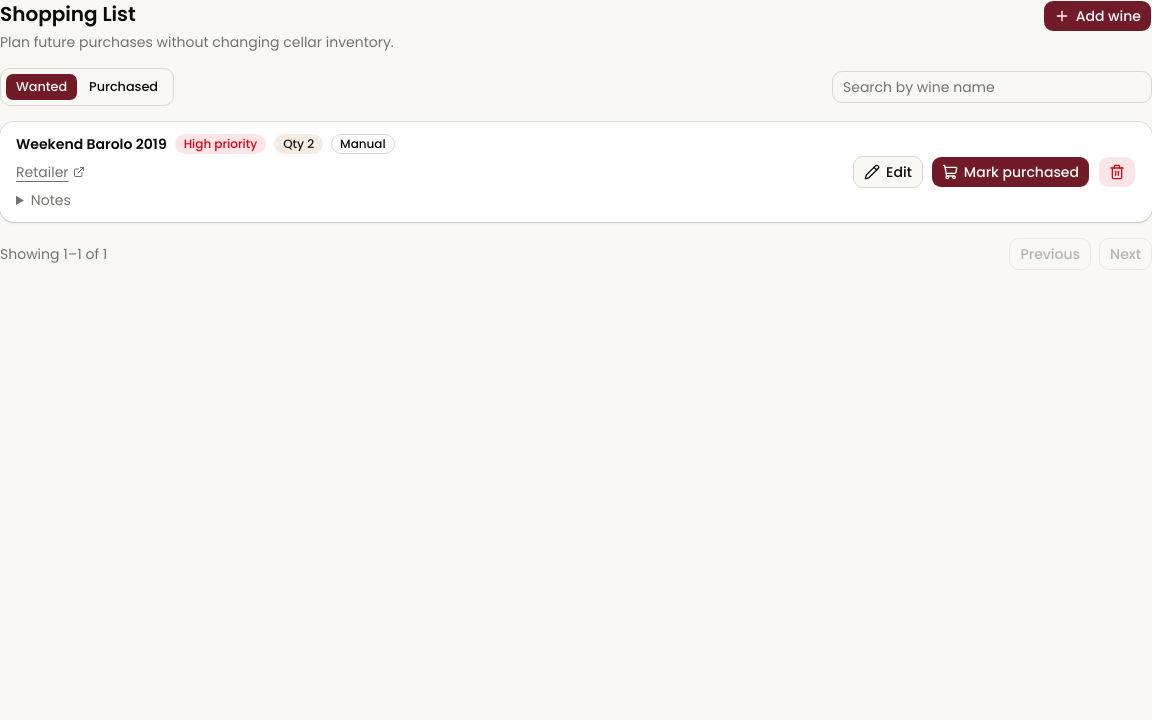
Test: CellarShoppingList › keeps edit values after a version conflict and refreshes the list
Click the button "Edit".
click(888, 172)  # box [853,156,923,188]
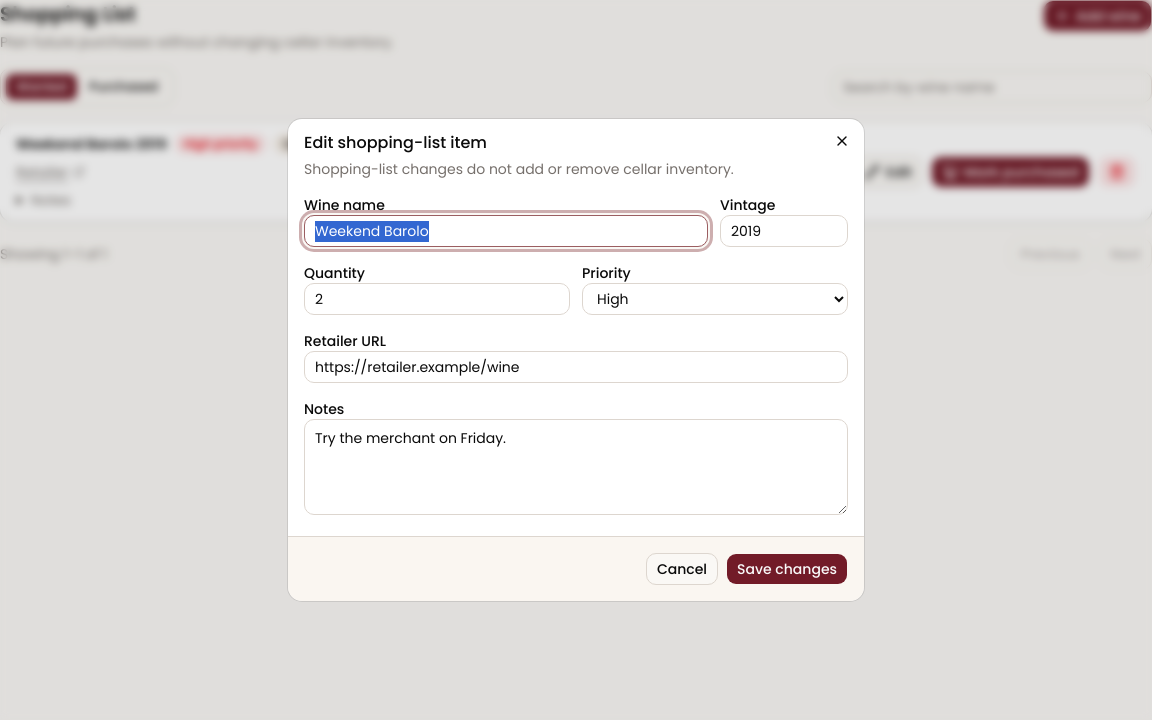
Replace the text in the number field labelled "Quantity" with "5" at (437, 299), box [304,283,570,315]
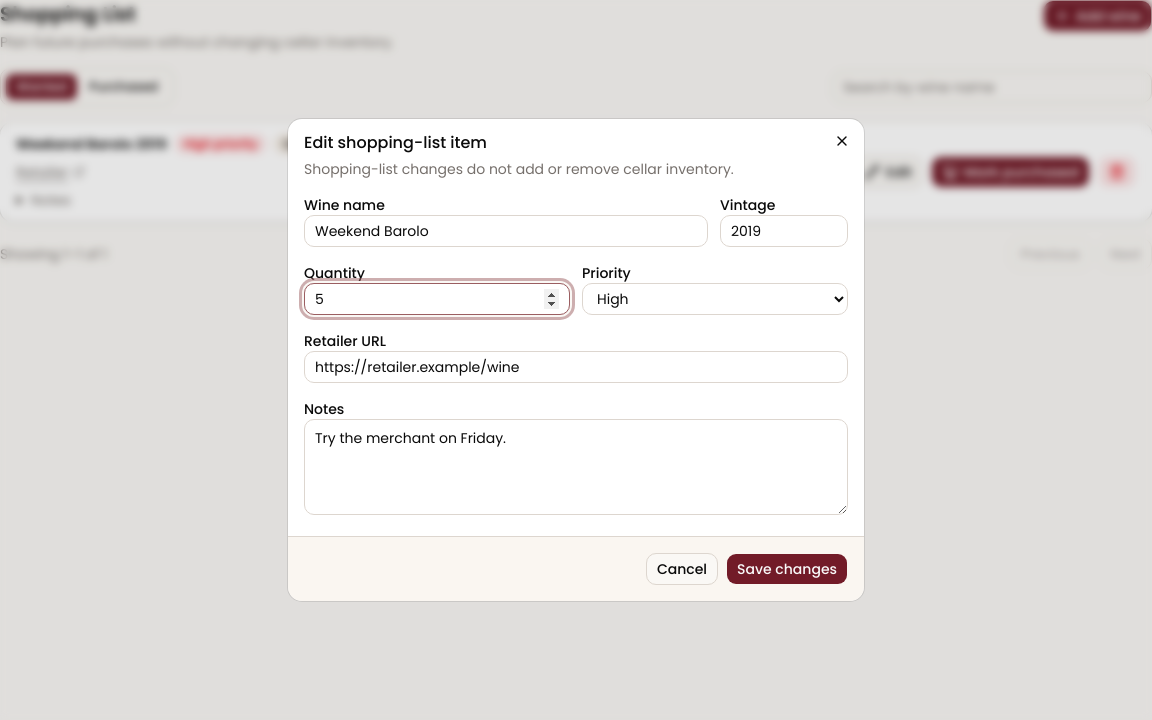
Click the button "Save changes".
click(787, 569)  # box [726,553,848,585]
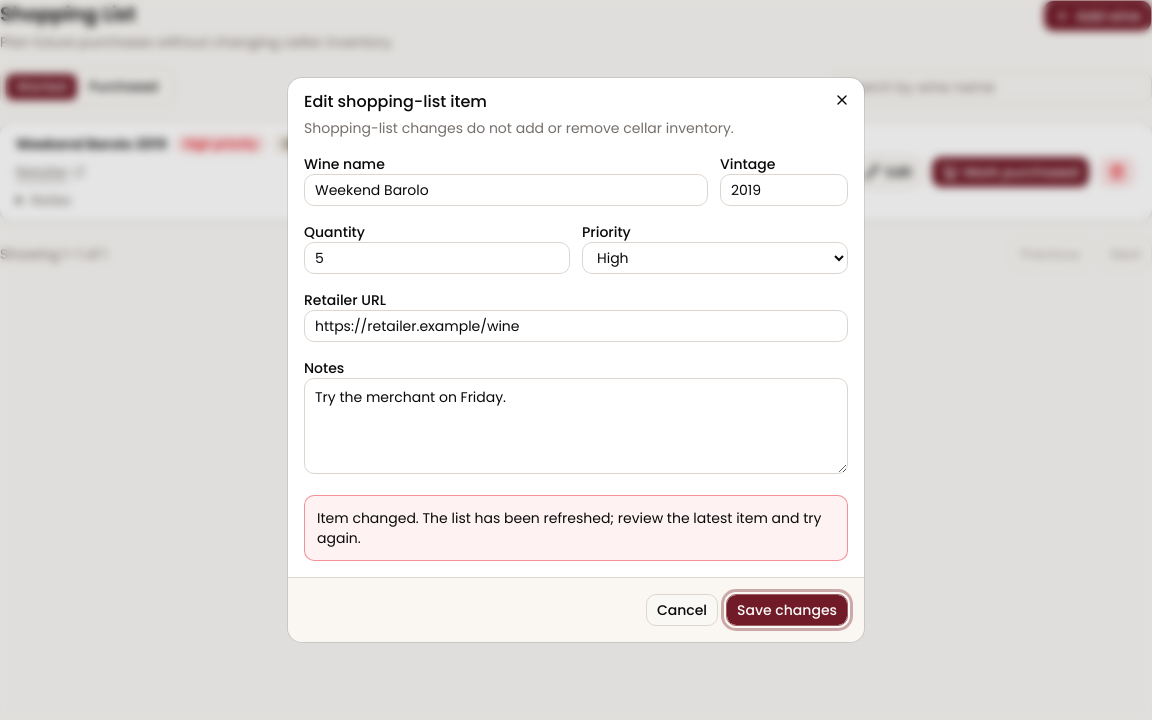
Expected: the message shows "list has been refreshed", [317,508,821,548]
